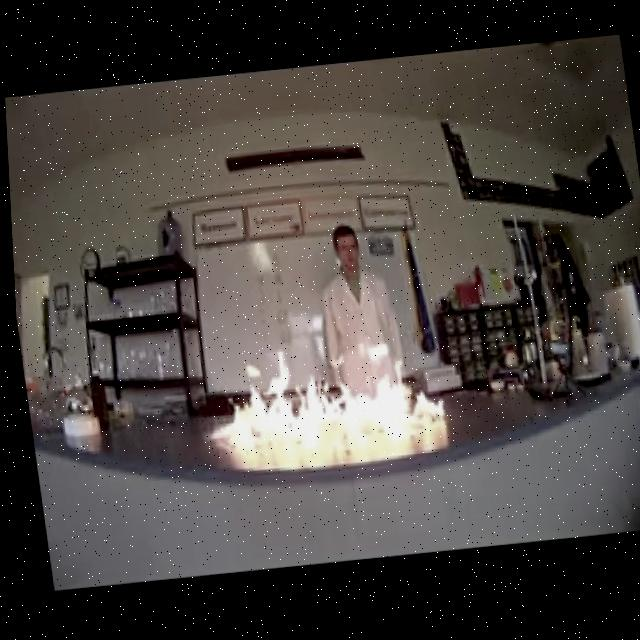Fire: (188, 331, 448, 458)
